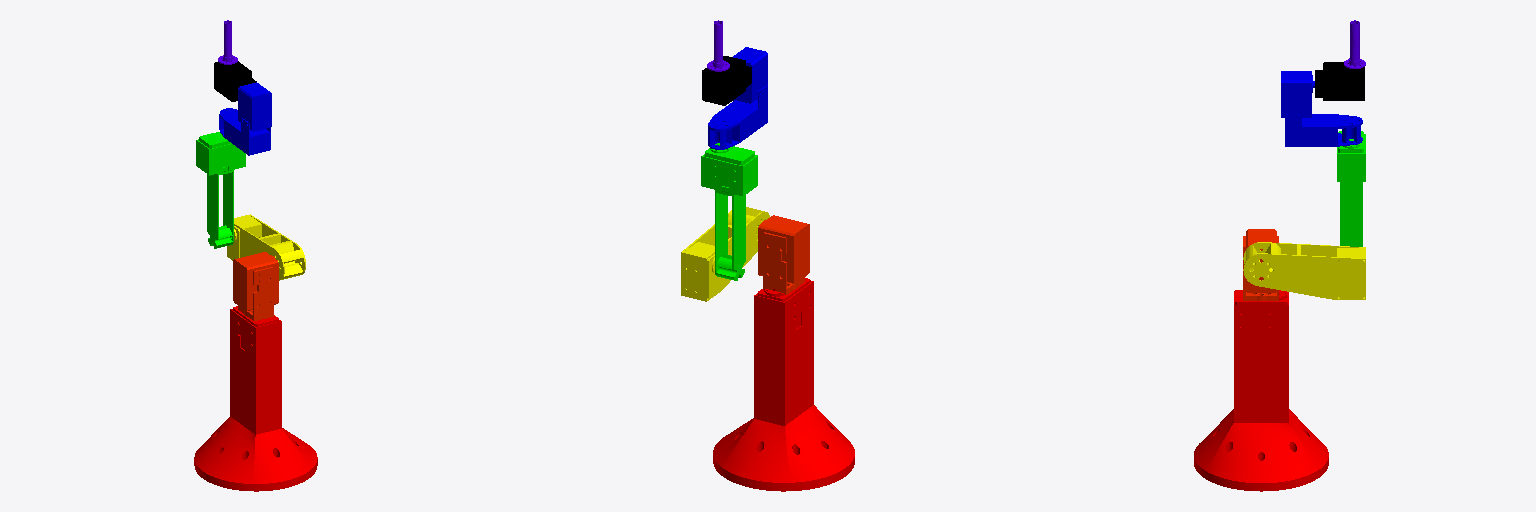
robot.urdf — jongbub:
<?xml version='1.0' ?>
<robot name="jongbub" >

    <material name="red">
        <color rgba="1 0 0 1"/>
    </material>
    <material name="orange">
        <color rgba="1 0.2 0 1"/>
    </material>
    <material name="yellow">
        <color rgba="1 1 0 1"/>
    </material>
    <material name="green">
        <color rgba="0 1 0 1"/>
    </material>
    <material name="blue">
        <color rgba="0 0 1 1"/>
    </material>
    <material name="black">
        <color rgba="0 0 0 1"/>
    </material>
    <material name="purple">
        <color rgba="0.4 0 1 1"/>
    </material>
    
    <link name="world"/>

    <joint name="joint_world" type="fixed">
        <parent link="world"/>
        <child link="base"/>
        <origin rpy="0 0 0" xyz="0 0 0"/>
    </joint>

    <link name="base">
        <visual>
            <origin xyz="0 0 0" rpy="0 0 0" />
            <geometry>
                <mesh filename="package://meshes/axis0.stl"/>
            </geometry>
            <material name="red"/>
        </visual>
    </link>



    <joint name="joint01" type="revolute">
        <origin xyz="0 0 0.205" rpy="0 0 0"/>
        <parent link="base"/>
        <child link="link1"/>
        <axis xyz='0 0 1'/>
        <calibration rising="0.0"/>
        <dynamics damping="0.0" friction="0.0"/>
        <limit effort="30" velocity="1.0" lower="-3.14" upper="3.14" />
        <safety_controller k_velocity="10" k_position="15" soft_lower_limit="-3.14" soft_upper_limit="3.14" />
    </joint>
    
    <link name="link1">
        <visual>
            <origin xyz="0 0 0" rpy="0 0 0" />
            <geometry>
                <mesh filename="package://meshes/axis1.stl"/>
            </geometry>
            <material name="orange"/>
        </visual>
    </link>

    <joint name="joint12" type="revolute">
        <origin xyz="0.0275 0 0.0587" rpy="1.5707963268 0 1.5707963268"/>
        <parent link="link1"/>
        <child link="link2"/>
        <axis xyz='0 0 1'/>
        <calibration rising="0.0"/>
        <dynamics damping="0.0" friction="0.0"/>
        <limit effort="30" velocity="1.0" lower="-3.14" upper="3.14" />
        <safety_controller k_velocity="10" k_position="15" soft_lower_limit="-3.14" soft_upper_limit="3.14" />
    </joint>

    <link name="link2">
        <visual>
            <origin xyz="0 0 0" rpy="0 0 0" />
            <geometry>
                <mesh filename="package://meshes/axis2.stl"/>
            </geometry>
            <material name="yellow"/>
        </visual>
    </link>


    <joint name="joint23" type="revolute">
        <origin xyz="0.1 0.0012 -0.0075" rpy="3.1415926536 0 1.5707963268"/>
        <parent link="link2"/>
        <child link="link3"/>
        <axis xyz='0 0 1'/>
        <calibration rising="0.0"/>
        <dynamics damping="0.0" friction="0.0"/>
        <limit effort="30" velocity="1.0" lower="-3.14" upper="3.14" />
        <safety_controller k_velocity="10" k_position="15" soft_lower_limit="-3.14" soft_upper_limit="3.14" />
    </joint>

    <link name="link3">
        <visual>
            <origin xyz="0 0 0" rpy="0 0 0" />
            <geometry>
                <mesh filename="package://meshes/axis3.stl"/>
            </geometry>
            <material name="green"/>
        </visual>
    </link>


    <joint name="joint34" type="revolute">
        <origin xyz="0.14 0 -0.0008" rpy="-1.5707963268 0 -1.5707963268"/>
        <parent link="link3"/>
        <child link="link4"/>
        <axis xyz='0 0 1'/>
        <calibration rising="0.0"/>
        <dynamics damping="0.0" friction="0.0"/>
        <limit effort="30" velocity="1.0" lower="-3.14" upper="3.14" />
        <safety_controller k_velocity="10" k_position="15" soft_lower_limit="-3.14" soft_upper_limit="3.14" />
    </joint>

    <link name="link4">
        <visual>
            <origin xyz="0 0 0" rpy="0 0 0" />
            <geometry>
                <mesh filename="package://meshes/axis4.stl"/>
            </geometry>
            <material name="blue"/>
        </visual>
    </link>


    <joint name="joint45" type="revolute">
        <origin xyz="0.0385 -0.0005 0.069" rpy="0 -1.5707963268 0"/>
        <parent link="link4"/>
        <child link="link5"/>
        <axis xyz='0 0 1'/>
        <calibration rising="0.0"/>
        <dynamics damping="0.0" friction="0.0"/>
        <limit effort="30" velocity="1.0" lower="-3.14" upper="3.14" />
        <safety_controller k_velocity="10" k_position="15" soft_lower_limit="-3.14" soft_upper_limit="3.14" />
    </joint>

    <link name="link5">
        <visual>
            <origin xyz="0 0 0" rpy="0 0 0" />
            <geometry>
                <mesh filename="package://meshes/axis5.stl"/>
            </geometry>
            <material name="black"/>
        </visual>
    </link>

    <joint name="joint56" type="revolute">
        <origin xyz="0.024 0 0.0422" rpy="0 1.5707963268 0"/>
        <parent link="link5"/>
        <child link="link6"/>
        <axis xyz='0 0 1'/>
        <calibration rising="0.0"/>
        <dynamics damping="0.0" friction="0.0"/>
        <limit effort="30" velocity="1.0" lower="-3.14" upper="3.14" />
        <safety_controller k_velocity="10" k_position="15" soft_lower_limit="-3.14" soft_upper_limit="3.14" />
    </joint>

    <link name="link6">
        <visual>
            <origin xyz="0 0 0" rpy="0 0 0" />
            <geometry>
                <mesh filename="package://meshes/axis6.stl"/>
            </geometry>
            <material name="purple"/>
        </visual>
    </link>

</robot>

--- Render facts (derived) ---
3 views of the same robot in one strip: view 1: azimuth 30°, elevation 25°; view 2: azimuth 150°, elevation 25°; view 3: azimuth 270°, elevation 25° (orthographic).
Model jongbub with 8 links and 7 joints (6 revolute, 1 fixed), rooted at world, posed every joint at zero.
Links seen in each view (by area): view 1: base, link3, link4, link1, link2, link5; view 2: base, link3, link1, link4, link2, link5, link6; view 3: base, link2, link4, link3, link5, link1, link6.
Boxes of the visible links, bbox=[...] form: base: bbox=[194, 306, 317, 491]; link3: bbox=[196, 132, 245, 248]; link4: bbox=[219, 82, 271, 155]; link1: bbox=[233, 252, 278, 320]; link2: bbox=[227, 214, 305, 280]; link5: bbox=[214, 61, 256, 101]; base: bbox=[713, 278, 854, 491]; link3: bbox=[701, 143, 757, 280]; link1: bbox=[758, 215, 809, 294]; link4: bbox=[708, 47, 767, 149]; link2: bbox=[681, 207, 769, 301]; link5: bbox=[702, 56, 751, 105]; link6: bbox=[707, 20, 729, 71]; base: bbox=[1194, 290, 1328, 491]; link2: bbox=[1243, 242, 1365, 299]; link4: bbox=[1281, 71, 1362, 146]; link3: bbox=[1337, 131, 1365, 246]; link5: bbox=[1315, 62, 1364, 100]; link1: bbox=[1243, 229, 1278, 300]; link6: bbox=[1344, 20, 1365, 68].
Bounding box of the posed robot: 0.15 × 0.1912 × 0.5494 m (x, y, z).
Meshes: 7 distinct files referenced, 7 mesh visuals loaded (7 ASCII STL).
